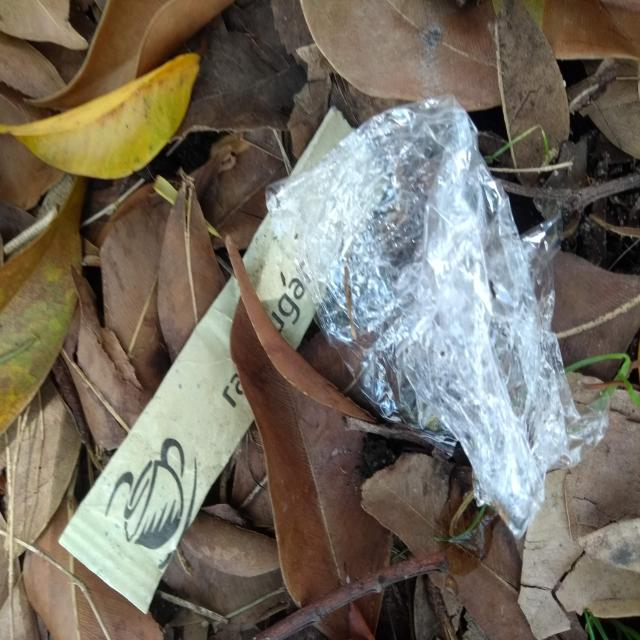litter: (265, 92, 611, 533), (58, 105, 355, 615)
